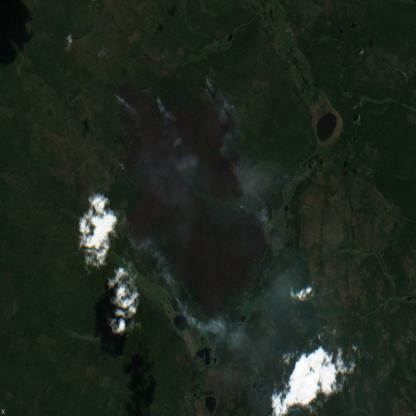fire: (122, 222, 193, 322), (200, 66, 247, 164), (255, 192, 278, 244), (148, 88, 168, 110), (110, 85, 126, 107)
